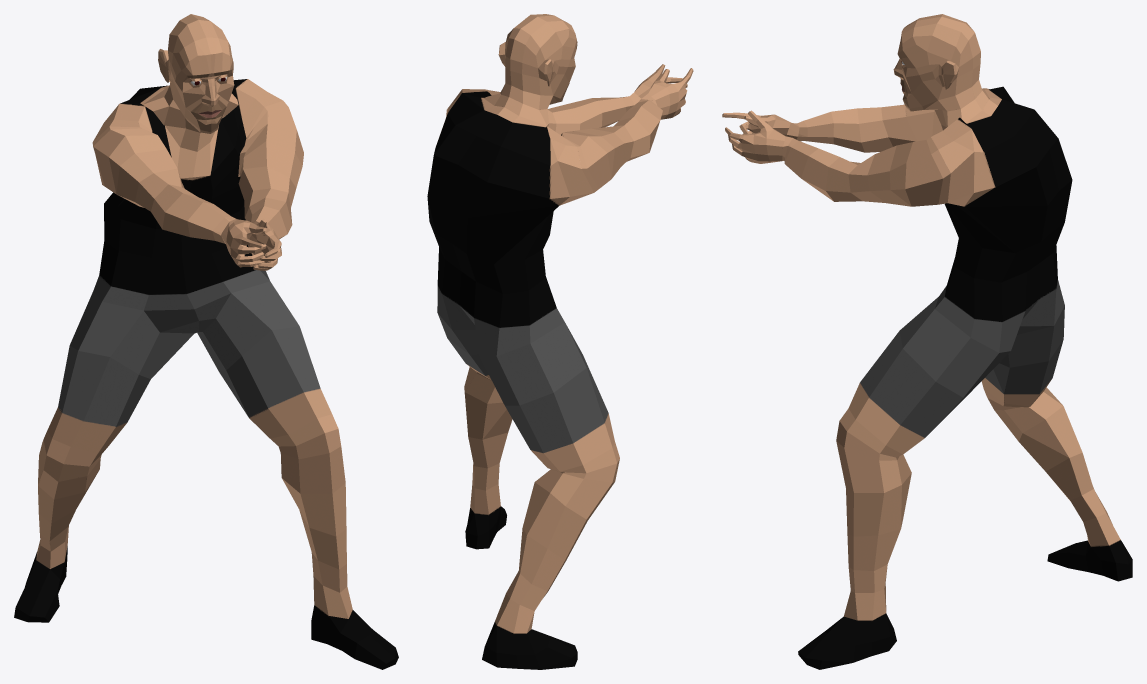
Rendered from PlayerShoot(29).obj.
3 views of the same model, side by side, from view 1: azimuth 30°, elevation 25°; view 2: azimuth 150°, elevation 25°; view 3: azimuth 270°, elevation 25° (orthographic). The views are drawn at different scales.
Parts seen in each view (by area): view 1: Plane002; view 2: Plane002; view 3: Plane002.
Boxes of the visible parts, x1,y1,x2,y2 form: Plane002: (14, 14, 398, 669); Plane002: (427, 14, 693, 669); Plane002: (722, 14, 1132, 669).
Bounding box in the file's own units: 713 × 1665 × 1049.
